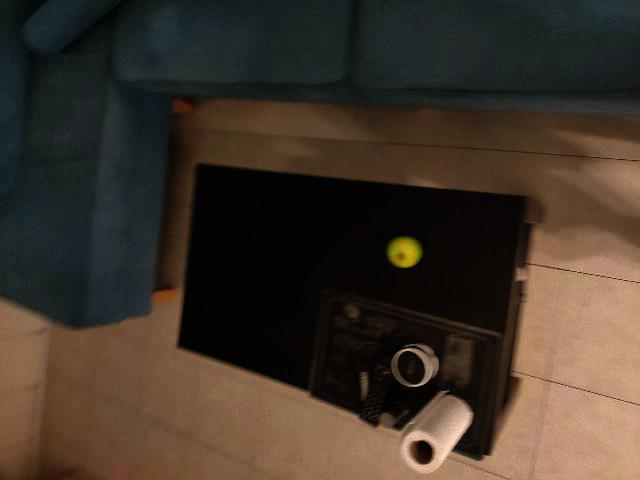apple: (200, 380, 275, 480)
